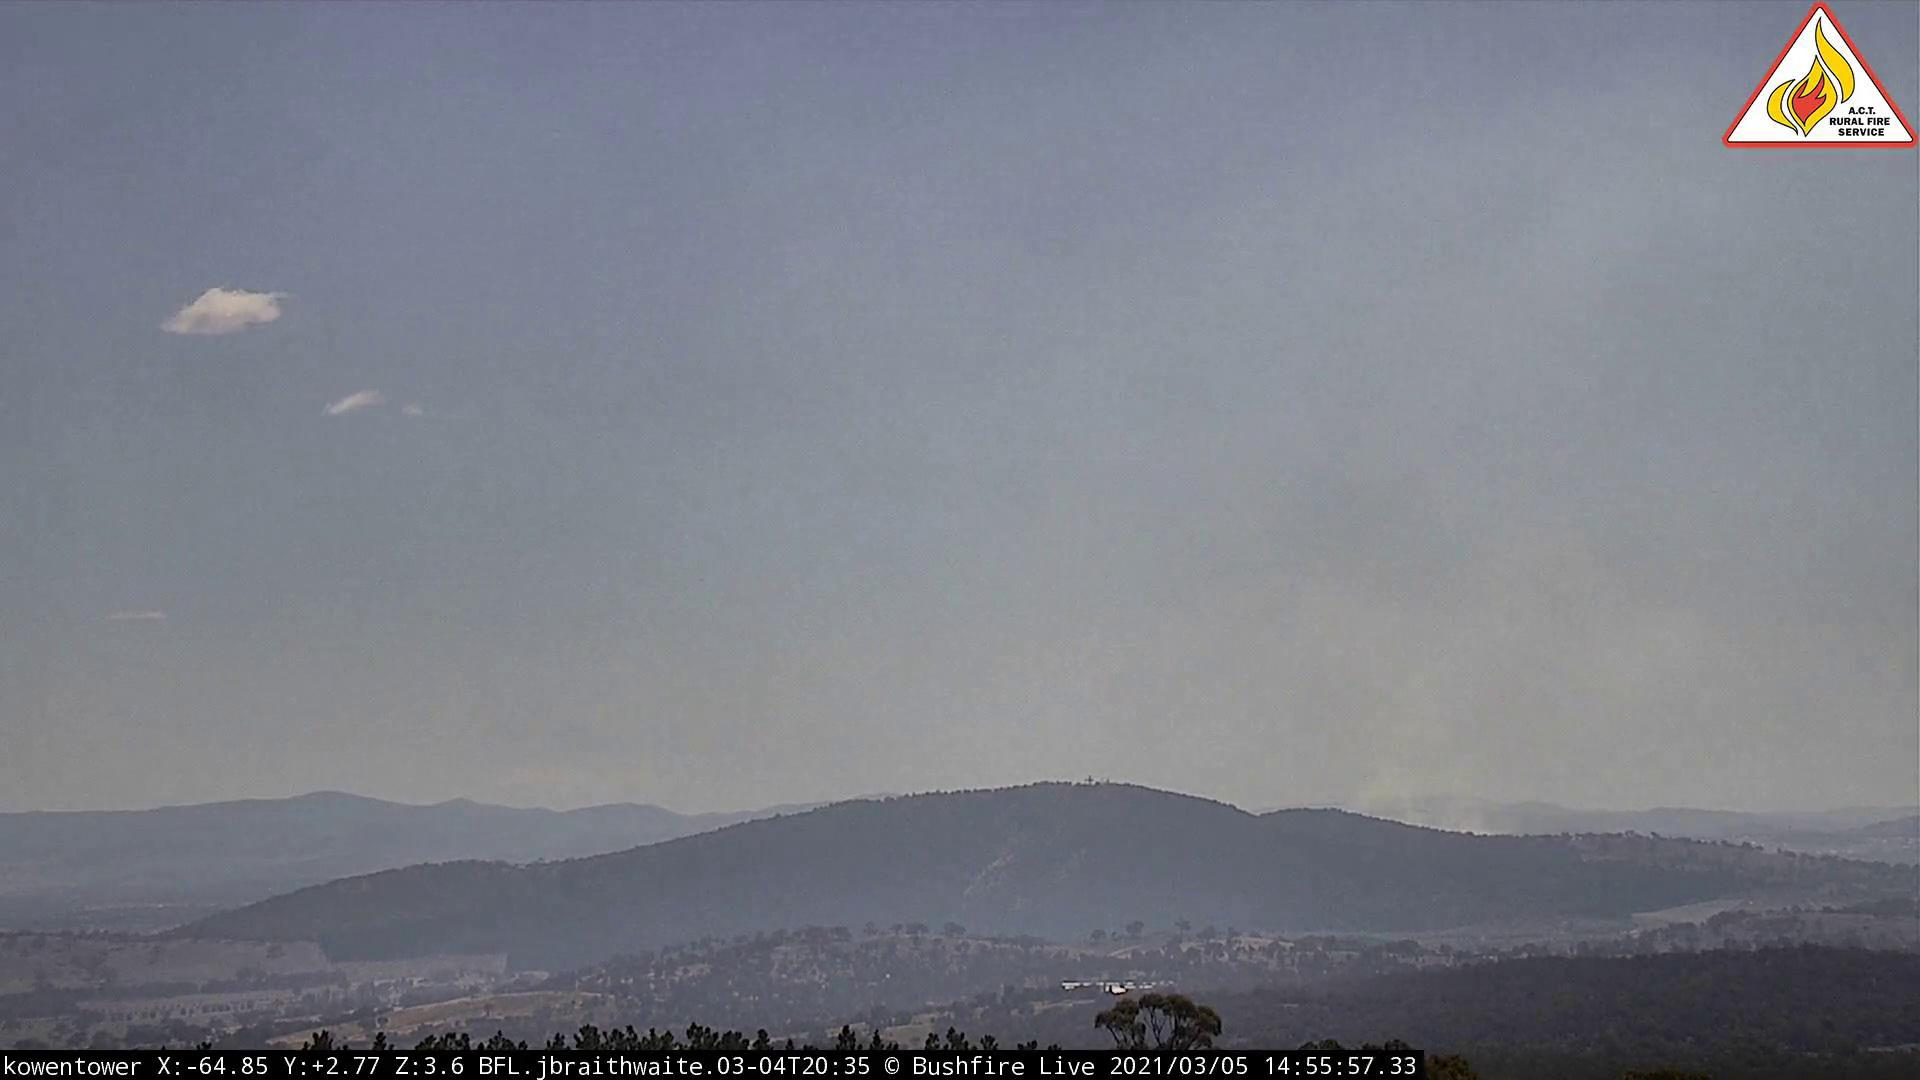Smoke: (1079, 489, 1712, 844)
